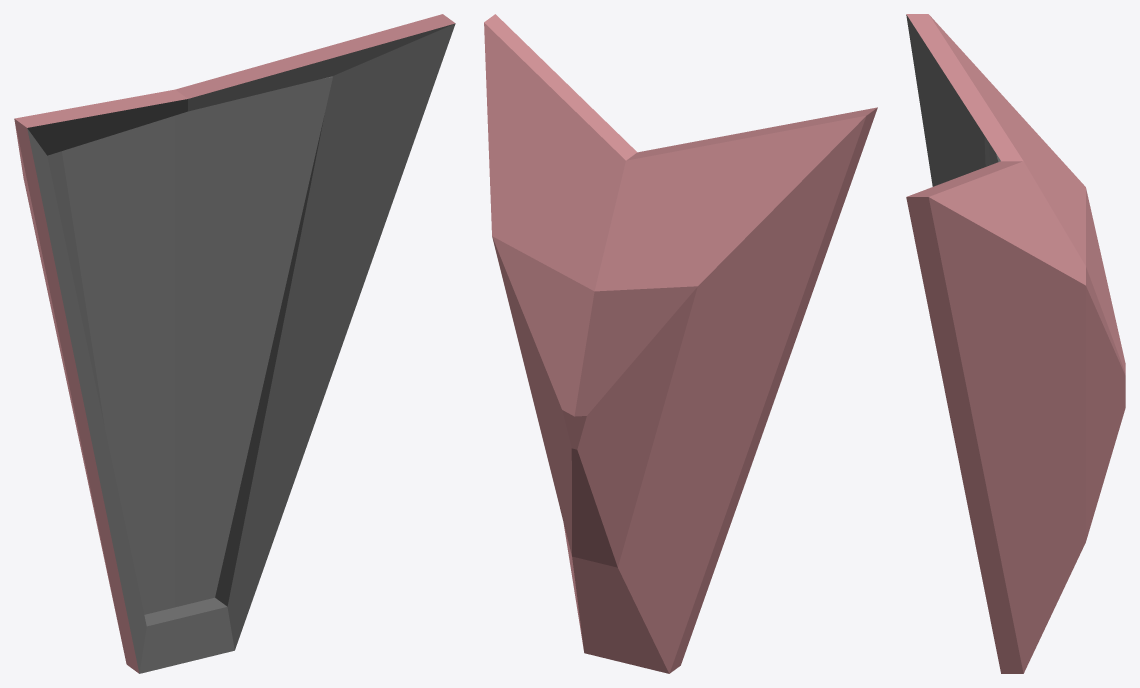
File: shield.fbx
3 renders of one model, left to right at view 1: azimuth 30°, elevation 25°; view 2: azimuth 150°, elevation 25°; view 3: azimuth 270°, elevation 25°, orthographic. The views are drawn at different scales.
Visible parts, largest first — view 1: Shield; view 2: Shield; view 3: Shield.
Part boxes in pixels (x1,y1,x2,y2): Shield: (14, 14, 455, 673); Shield: (484, 14, 877, 673); Shield: (906, 14, 1125, 673).
Size of the model in its own units: 2 by 2.79 by 1.01.
